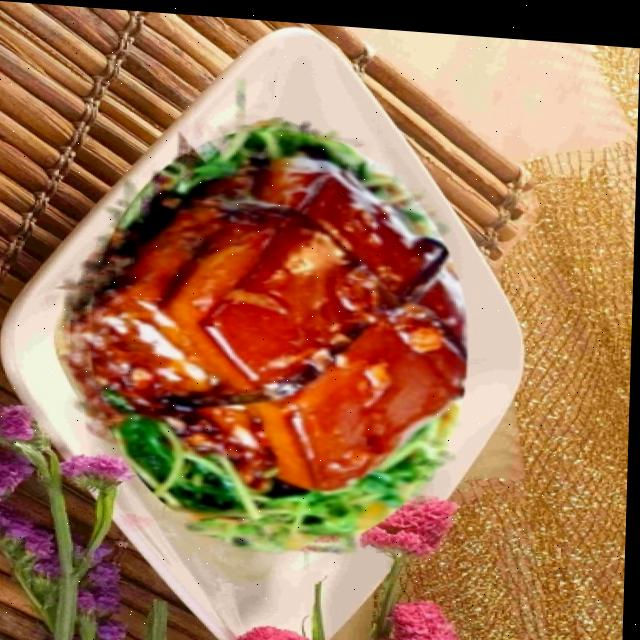牛肉菜式: (41, 75, 525, 577)
